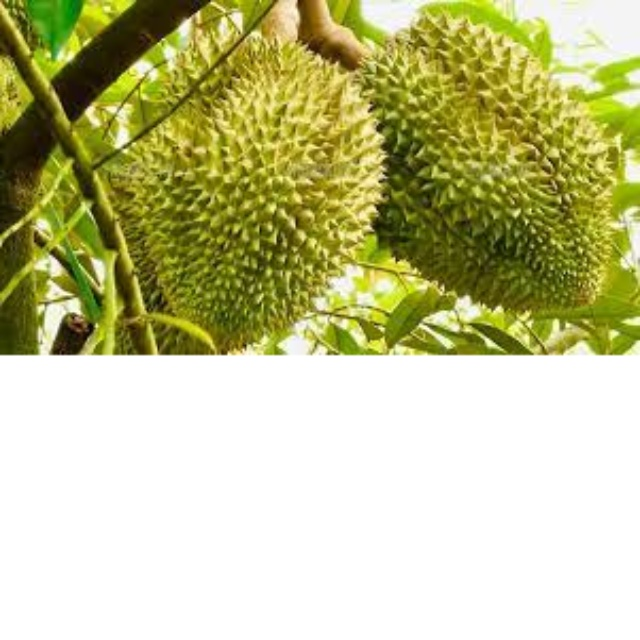sau_rieng: (108, 34, 375, 347), (360, 11, 616, 313)
